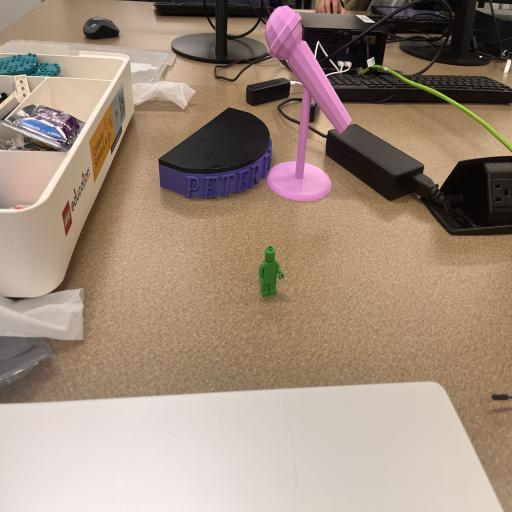Lego-Minifig: (258, 246, 284, 297)
